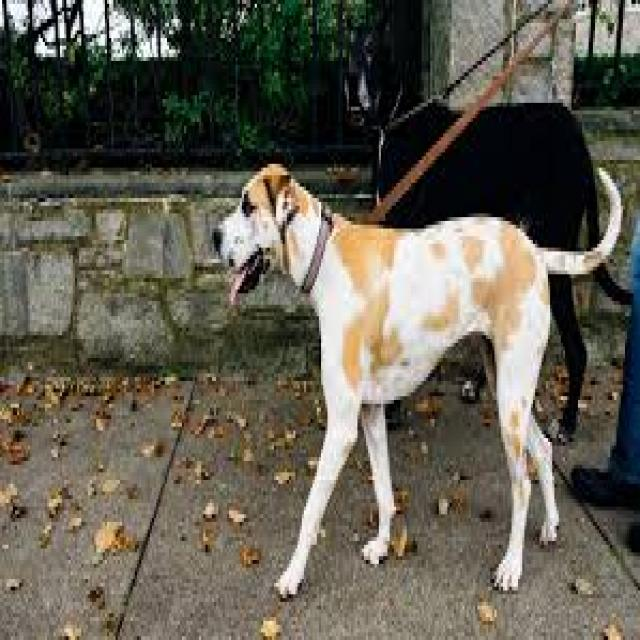good: (212, 156, 623, 598)
